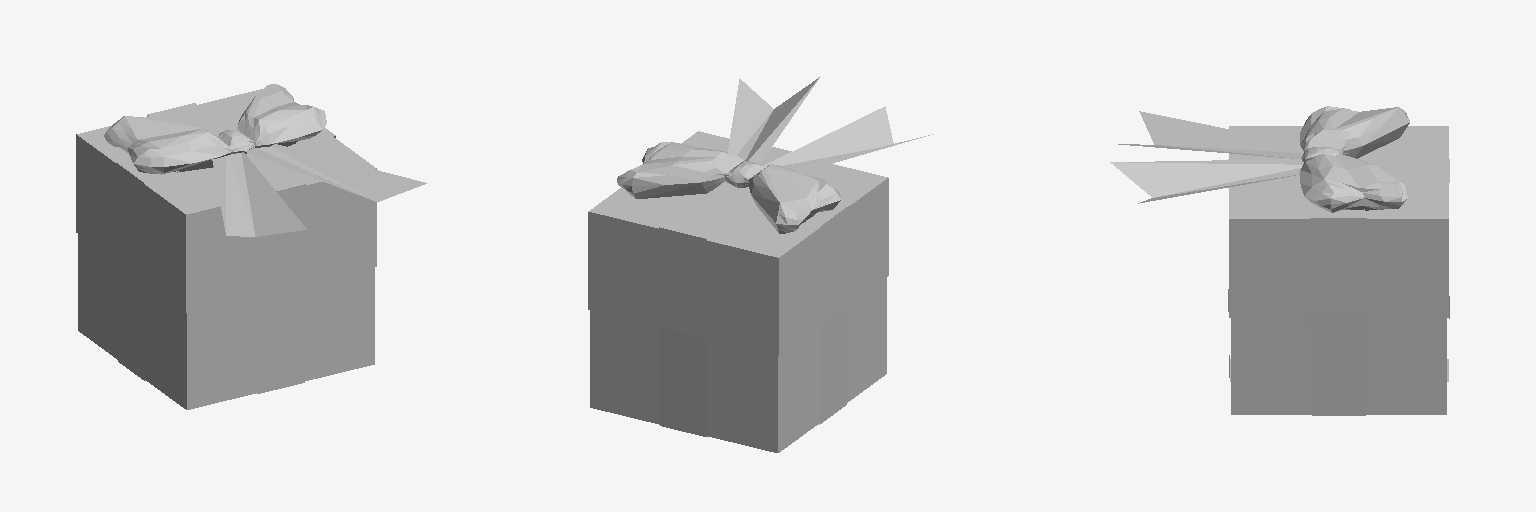
The model's file is W_present.obj.
3 renders of one model, left to right at view 1: azimuth 30°, elevation 25°; view 2: azimuth 150°, elevation 25°; view 3: azimuth 270°, elevation 25°, orthographic.
Parts seen in each view (by area): view 1: Cube.002; view 2: Cube.002; view 3: Cube.002.
Part boxes in pixels (bbox=[...]): Cube.002: bbox=[76, 84, 426, 409]; Cube.002: bbox=[588, 77, 932, 452]; Cube.002: bbox=[1110, 106, 1449, 415].
Bounding box in the file's own units: 1.3 × 1.42 × 1.91.